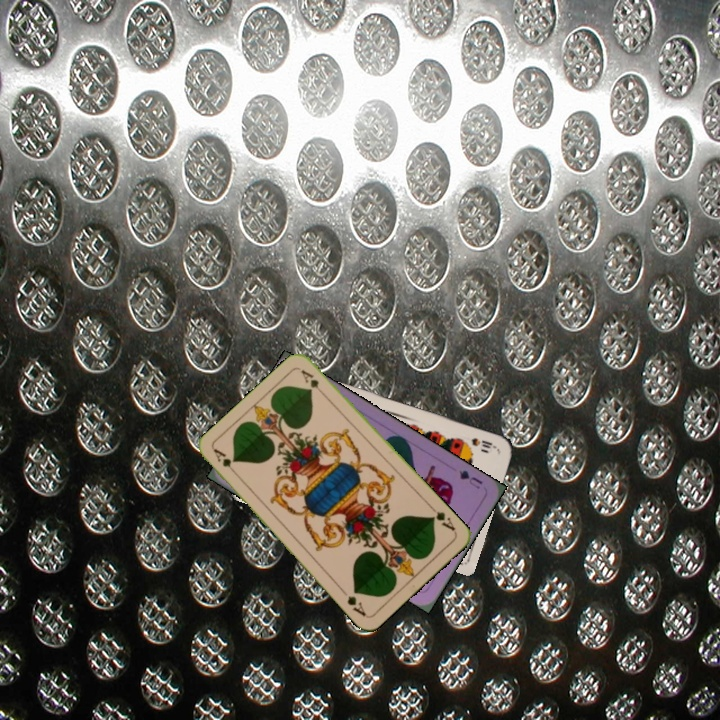GA: (209, 445, 241, 478), (426, 502, 458, 534)
GU: (455, 466, 485, 492)
S10: (467, 433, 499, 451)
